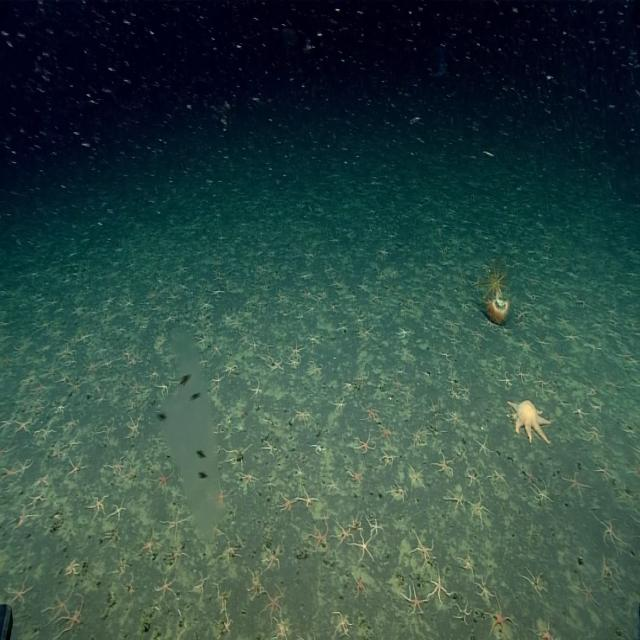brittle-stars: (484, 600, 514, 638), (595, 514, 623, 549), (92, 523, 125, 552), (262, 587, 286, 625), (9, 574, 34, 608), (64, 598, 85, 636), (425, 412, 448, 446), (405, 582, 429, 612), (413, 532, 436, 563), (431, 570, 451, 605), (121, 572, 141, 607), (164, 509, 187, 539), (346, 504, 369, 534), (573, 580, 598, 607), (526, 568, 550, 596), (562, 472, 587, 498), (354, 531, 374, 562), (308, 520, 328, 550), (599, 556, 619, 586), (46, 592, 70, 617), (531, 618, 558, 640), (602, 373, 626, 397), (468, 494, 488, 522), (110, 552, 127, 584), (334, 612, 353, 640), (151, 467, 173, 491), (156, 577, 178, 600), (227, 446, 250, 468), (139, 532, 157, 560), (32, 314, 54, 336), (12, 511, 33, 534), (264, 546, 282, 572), (248, 570, 264, 599), (66, 375, 88, 396), (88, 494, 108, 517), (446, 488, 465, 512), (388, 480, 407, 504), (260, 471, 279, 495), (408, 463, 426, 488), (220, 540, 238, 565), (476, 577, 494, 602), (436, 452, 456, 474), (96, 310, 118, 330), (335, 521, 354, 544), (68, 455, 86, 479), (354, 435, 374, 456), (530, 482, 550, 503), (169, 544, 188, 566), (518, 292, 537, 314), (291, 304, 306, 330), (594, 462, 613, 482), (476, 437, 494, 458), (366, 515, 382, 538), (239, 472, 258, 491), (36, 421, 55, 440), (615, 482, 634, 501), (352, 573, 367, 597), (300, 487, 318, 507), (446, 408, 464, 428), (14, 458, 32, 478), (274, 620, 292, 640), (582, 425, 602, 443), (556, 394, 574, 414), (378, 421, 394, 443), (348, 463, 364, 485), (193, 575, 209, 597), (215, 587, 230, 610), (294, 408, 313, 426), (27, 490, 46, 508), (98, 421, 117, 439), (29, 474, 48, 492), (279, 492, 296, 512), (111, 459, 128, 479), (110, 499, 126, 520), (233, 529, 249, 550), (455, 600, 470, 622), (124, 466, 140, 486), (128, 417, 143, 438), (216, 485, 230, 507), (586, 376, 600, 398), (515, 366, 531, 385), (361, 405, 377, 424), (524, 287, 544, 302), (219, 614, 232, 637), (469, 328, 486, 345), (165, 289, 182, 306), (264, 441, 280, 459), (384, 264, 402, 280), (422, 289, 440, 305), (459, 555, 474, 574), (329, 277, 349, 291), (63, 416, 78, 434), (1, 462, 16, 480), (586, 340, 604, 355), (66, 558, 80, 577), (560, 331, 579, 345), (336, 320, 350, 339), (413, 425, 425, 447), (332, 397, 348, 413), (130, 379, 146, 395), (519, 338, 535, 354), (17, 418, 33, 434), (288, 342, 304, 358), (90, 380, 106, 396), (404, 293, 420, 309), (457, 298, 471, 316), (530, 309, 543, 328), (250, 378, 261, 400), (491, 468, 506, 484), (398, 345, 413, 361), (67, 436, 82, 452), (164, 630, 188, 640), (55, 398, 69, 415), (497, 323, 515, 336), (60, 345, 75, 360), (534, 336, 550, 350), (86, 357, 100, 373), (381, 450, 395, 466), (573, 406, 587, 422), (32, 400, 46, 416), (524, 467, 537, 484), (466, 467, 478, 485), (628, 464, 640, 482), (358, 370, 370, 388), (222, 410, 234, 428), (312, 442, 326, 457), (128, 353, 142, 368), (308, 334, 322, 349), (42, 368, 56, 383), (31, 378, 46, 392), (499, 372, 512, 388), (310, 360, 323, 376), (158, 380, 171, 396), (0, 415, 13, 431), (551, 351, 567, 364), (222, 309, 234, 326), (456, 446, 468, 463), (427, 398, 439, 415), (557, 314, 571, 328), (223, 362, 238, 375), (396, 326, 411, 339), (535, 377, 550, 390), (78, 330, 91, 345), (445, 318, 460, 331), (211, 342, 223, 358), (211, 372, 223, 388), (53, 443, 65, 459), (212, 522, 222, 541), (393, 375, 404, 392), (288, 356, 301, 370), (163, 350, 176, 364), (587, 402, 600, 416), (272, 357, 284, 372), (326, 478, 338, 493), (73, 304, 86, 317), (360, 325, 373, 338), (202, 299, 214, 313), (449, 386, 461, 400), (442, 348, 454, 362), (156, 335, 168, 349), (128, 399, 140, 413), (577, 296, 591, 308), (242, 306, 254, 320), (164, 314, 178, 326), (633, 512, 640, 535), (148, 366, 160, 379), (100, 357, 112, 370), (516, 318, 529, 330), (344, 380, 356, 393), (60, 372, 72, 385), (211, 286, 225, 297), (212, 421, 222, 436), (302, 288, 314, 300), (276, 291, 288, 303), (384, 282, 396, 294), (632, 442, 640, 460), (515, 307, 527, 319), (104, 293, 116, 305), (372, 290, 383, 303), (429, 304, 442, 315), (234, 316, 245, 329), (198, 335, 209, 348), (294, 464, 304, 478), (200, 355, 211, 367), (357, 281, 368, 293), (307, 304, 318, 316), (347, 290, 358, 302), (461, 384, 471, 397), (328, 302, 338, 315), (250, 339, 260, 352), (240, 334, 250, 347), (264, 340, 274, 352), (125, 296, 135, 308), (355, 313, 365, 325), (449, 377, 459, 389), (548, 384, 559, 394), (152, 304, 162, 314)
